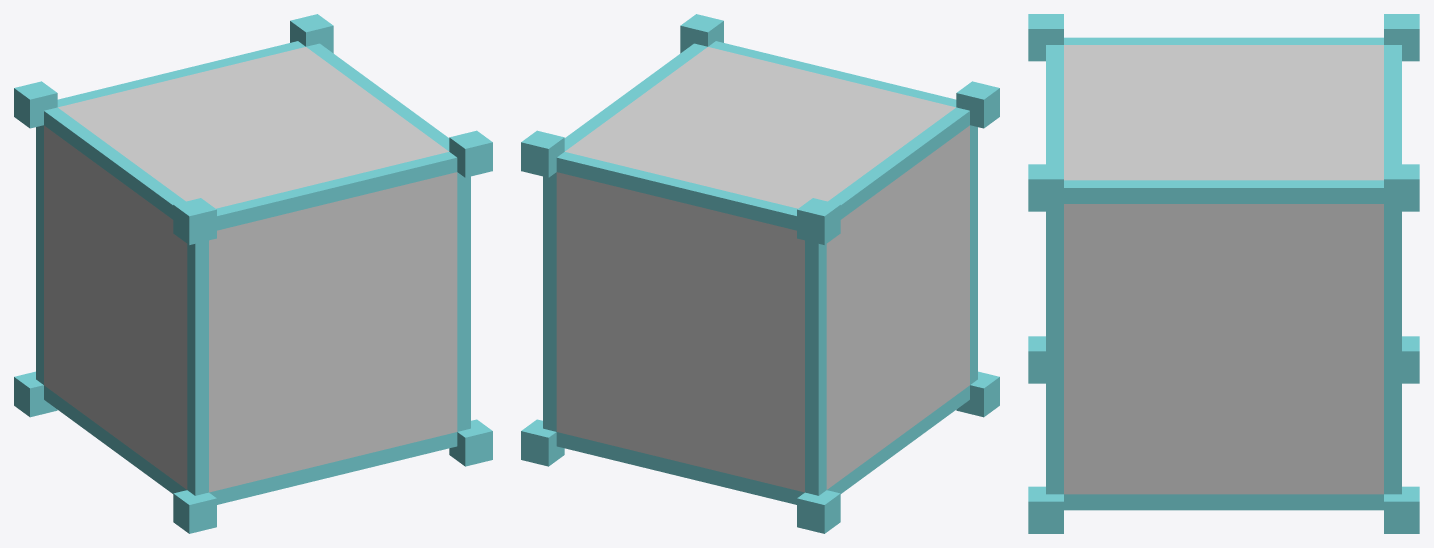
File: Reciever.glb
3 renders of one model, left to right at view 1: azimuth 30°, elevation 25°; view 2: azimuth 150°, elevation 25°; view 3: azimuth 270°, elevation 25°, orthographic. The views are drawn at different scales.
Parts seen in each view (by area): view 1: Cube; view 2: Cube; view 3: Cube.
Boxes of the visible parts, <box> form: Cube: <box>14,14,492,533</box>; Cube: <box>521,14,999,533</box>; Cube: <box>1028,14,1419,533</box>.
Bounding box in the file's own units: 2.2 × 2.2 × 2.2.
